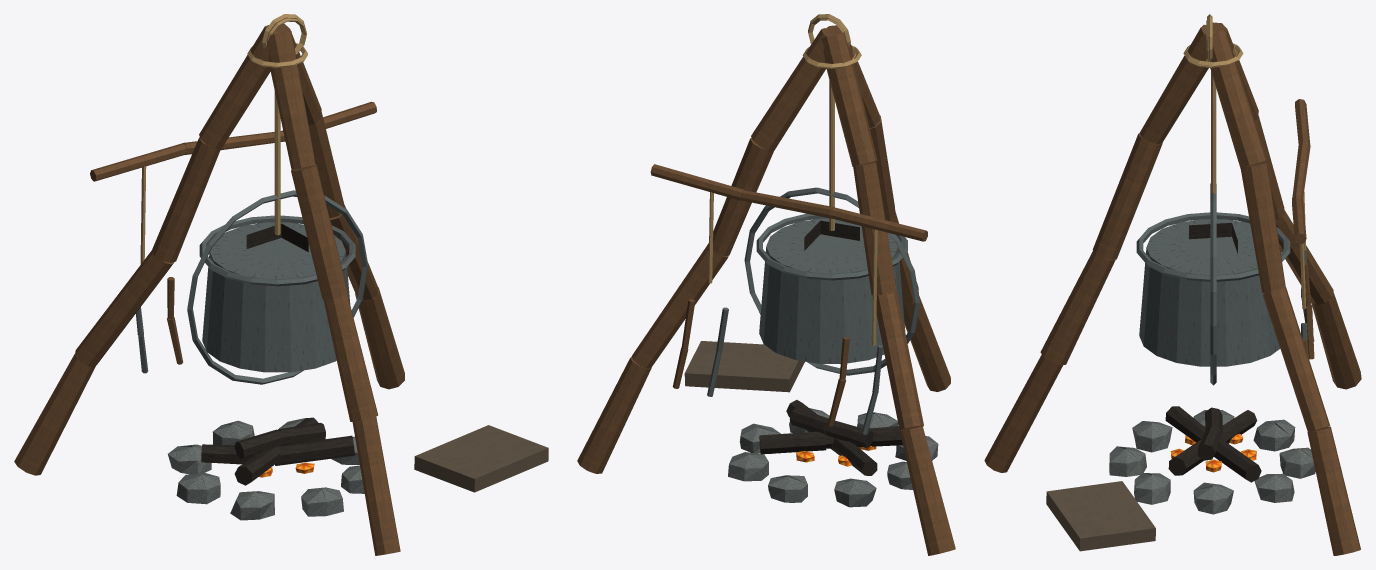
The model's file is en-017_cooking_corner_set__utensils.obj.
3 renders of one model, left to right at view 1: azimuth 30°, elevation 25°; view 2: azimuth 150°, elevation 25°; view 3: azimuth 270°, elevation 25°, orthographic. The views are drawn at different scales.
Parts seen in each view (by area): view 1: en-017_cooking_corner_set__utensils; view 2: en-017_cooking_corner_set__utensils; view 3: en-017_cooking_corner_set__utensils.
Boxes of the visible parts, x1=… form: en-017_cooking_corner_set__utensils: x1=14, y1=14, x2=548, y2=555; en-017_cooking_corner_set__utensils: x1=577, y1=14, x2=955, y2=555; en-017_cooking_corner_set__utensils: x1=984, y1=14, x2=1361, y2=555.
Bounding box in the file's own units: 1.24 × 1.41 × 1.04.
7 materials, 7 textured.
